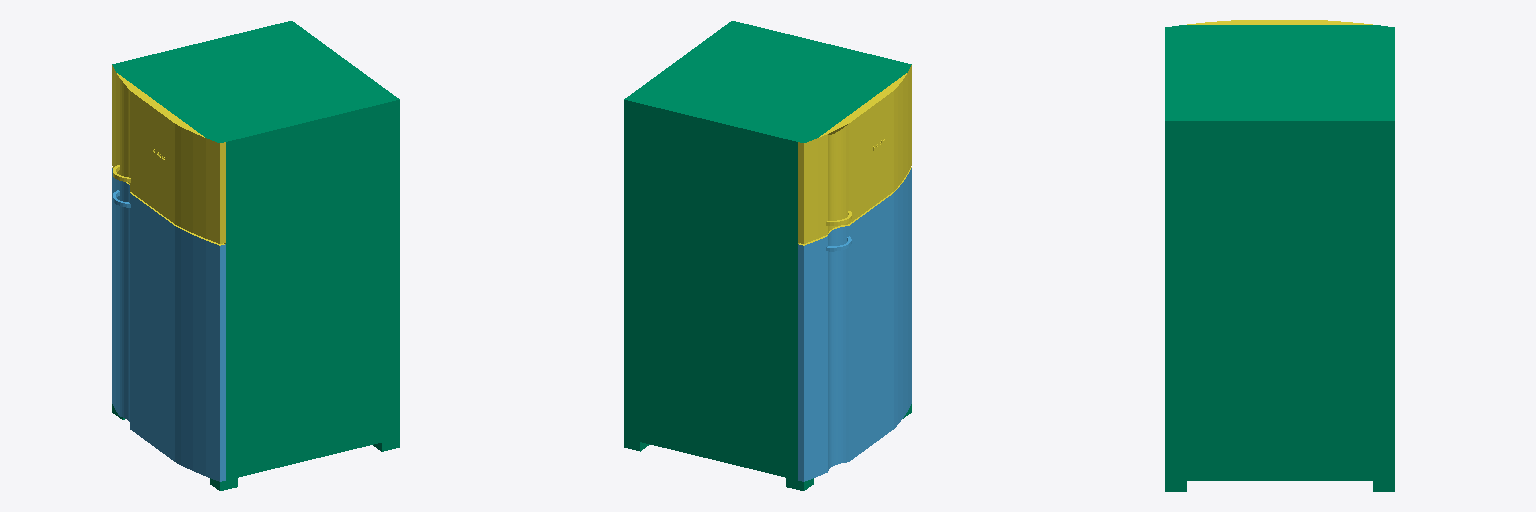
URDF robot description (partnet_76a7e00101f52c70e413b5309d4fbd97):
<?xml version="1.0" ?>
<robot name="partnet_76a7e00101f52c70e413b5309d4fbd97">
	<link name="base"/>
	<link name="link_0">
		<visual name="door_frame-18">
			<origin xyz="-0.3807878965770184 -0.7201900000000003 -0.3004950962124482"/>
			<geometry>
				<mesh filename="textured_objs/new-4.obj"/>
			</geometry>
		</visual>
		<visual name="door_frame-18">
			<origin xyz="-0.3807878965770184 -0.7201900000000003 -0.3004950962124482"/>
			<geometry>
				<mesh filename="textured_objs/original-8.obj"/>
			</geometry>
		</visual>
		<visual name="handle-19">
			<origin xyz="-0.3807878965770184 -0.7201900000000003 -0.3004950962124482"/>
			<geometry>
				<mesh filename="textured_objs/original-1.obj"/>
			</geometry>
		</visual>
		<collision>
			<origin xyz="-0.3807878965770184 -0.7201900000000003 -0.3004950962124482"/>
			<geometry>
				<mesh filename="textured_objs/new-4.obj"/>
			</geometry>
		</collision>
		<collision>
			<origin xyz="-0.3807878965770184 -0.7201900000000003 -0.3004950962124482"/>
			<geometry>
				<mesh filename="textured_objs/original-8.obj"/>
			</geometry>
		</collision>
		<collision>
			<origin xyz="-0.3807878965770184 -0.7201900000000003 -0.3004950962124482"/>
			<geometry>
				<mesh filename="textured_objs/original-1.obj"/>
			</geometry>
		</collision>
	</link>
	<joint name="joint_0" type="revolute">
		<origin xyz="0.3807878965770184 0.7201900000000003 0.3004950962124482"/>
		<axis xyz="0 1 0"/>
		<child link="link_0"/>
		<parent link="link_1"/>
		<limit lower="-0.0" upper="3.141592653589793"/>
	</joint>
	<link name="link_1">
		<visual name="frame-11">
			<origin xyz="0 0 0"/>
			<geometry>
				<mesh filename="textured_objs/new-6.obj"/>
			</geometry>
		</visual>
		<visual name="foot-4">
			<origin xyz="0 0 0"/>
			<geometry>
				<mesh filename="textured_objs/original-16.obj"/>
			</geometry>
		</visual>
		<visual name="foot-4">
			<origin xyz="0 0 0"/>
			<geometry>
				<mesh filename="textured_objs/new-2.obj"/>
			</geometry>
		</visual>
		<visual name="foot-5">
			<origin xyz="0 0 0"/>
			<geometry>
				<mesh filename="textured_objs/new-1.obj"/>
			</geometry>
		</visual>
		<visual name="foot-6">
			<origin xyz="0 0 0"/>
			<geometry>
				<mesh filename="textured_objs/new-0.obj"/>
			</geometry>
		</visual>
		<visual name="foot-7">
			<origin xyz="0 0 0"/>
			<geometry>
				<mesh filename="textured_objs/new-3.obj"/>
			</geometry>
		</visual>
		<visual name="foot-7">
			<origin xyz="0 0 0"/>
			<geometry>
				<mesh filename="textured_objs/original-7.obj"/>
			</geometry>
		</visual>
		<collision>
			<origin xyz="0 0 0"/>
			<geometry>
				<mesh filename="textured_objs/new-6.obj"/>
			</geometry>
		</collision>
		<collision>
			<origin xyz="0 0 0"/>
			<geometry>
				<mesh filename="textured_objs/original-16.obj"/>
			</geometry>
		</collision>
		<collision>
			<origin xyz="0 0 0"/>
			<geometry>
				<mesh filename="textured_objs/new-2.obj"/>
			</geometry>
		</collision>
		<collision>
			<origin xyz="0 0 0"/>
			<geometry>
				<mesh filename="textured_objs/new-1.obj"/>
			</geometry>
		</collision>
		<collision>
			<origin xyz="0 0 0"/>
			<geometry>
				<mesh filename="textured_objs/new-0.obj"/>
			</geometry>
		</collision>
		<collision>
			<origin xyz="0 0 0"/>
			<geometry>
				<mesh filename="textured_objs/new-3.obj"/>
			</geometry>
		</collision>
		<collision>
			<origin xyz="0 0 0"/>
			<geometry>
				<mesh filename="textured_objs/original-7.obj"/>
			</geometry>
		</collision>
	</link>
	<joint name="joint_1" type="fixed">
		<origin rpy="1.570796326794897 0 -1.570796326794897" xyz="0 0 0"/>
		<child link="link_1"/>
		<parent link="base"/>
	</joint>
	<link name="link_2">
		<visual name="other_leaf-15">
			<origin xyz="-0.3807878965770184 -0.7201900000000003 -0.3004950962124482"/>
			<geometry>
				<mesh filename="textured_objs/original-20.obj"/>
			</geometry>
		</visual>
		<visual name="other_leaf-15">
			<origin xyz="-0.3807878965770184 -0.7201900000000003 -0.3004950962124482"/>
			<geometry>
				<mesh filename="textured_objs/original-30.obj"/>
			</geometry>
		</visual>
		<visual name="other_leaf-15">
			<origin xyz="-0.3807878965770184 -0.7201900000000003 -0.3004950962124482"/>
			<geometry>
				<mesh filename="textured_objs/original-31.obj"/>
			</geometry>
		</visual>
		<visual name="other_leaf-15">
			<origin xyz="-0.3807878965770184 -0.7201900000000003 -0.3004950962124482"/>
			<geometry>
				<mesh filename="textured_objs/original-23.obj"/>
			</geometry>
		</visual>
		<visual name="other_leaf-15">
			<origin xyz="-0.3807878965770184 -0.7201900000000003 -0.3004950962124482"/>
			<geometry>
				<mesh filename="textured_objs/original-24.obj"/>
			</geometry>
		</visual>
		<visual name="other_leaf-15">
			<origin xyz="-0.3807878965770184 -0.7201900000000003 -0.3004950962124482"/>
			<geometry>
				<mesh filename="textured_objs/original-25.obj"/>
			</geometry>
		</visual>
		<visual name="other_leaf-15">
			<origin xyz="-0.3807878965770184 -0.7201900000000003 -0.3004950962124482"/>
			<geometry>
				<mesh filename="textured_objs/original-26.obj"/>
			</geometry>
		</visual>
		<visual name="other_leaf-15">
			<origin xyz="-0.3807878965770184 -0.7201900000000003 -0.3004950962124482"/>
			<geometry>
				<mesh filename="textured_objs/original-27.obj"/>
			</geometry>
		</visual>
		<visual name="other_leaf-15">
			<origin xyz="-0.3807878965770184 -0.7201900000000003 -0.3004950962124482"/>
			<geometry>
				<mesh filename="textured_objs/original-28.obj"/>
			</geometry>
		</visual>
		<visual name="other_leaf-15">
			<origin xyz="-0.3807878965770184 -0.7201900000000003 -0.3004950962124482"/>
			<geometry>
				<mesh filename="textured_objs/original-29.obj"/>
			</geometry>
		</visual>
		<visual name="door_frame-16">
			<origin xyz="-0.3807878965770184 -0.7201900000000003 -0.3004950962124482"/>
			<geometry>
				<mesh filename="textured_objs/new-5.obj"/>
			</geometry>
		</visual>
		<visual name="door_frame-16">
			<origin xyz="-0.3807878965770184 -0.7201900000000003 -0.3004950962124482"/>
			<geometry>
				<mesh filename="textured_objs/original-9.obj"/>
			</geometry>
		</visual>
		<visual name="handle-17">
			<origin xyz="-0.3807878965770184 -0.7201900000000003 -0.3004950962124482"/>
			<geometry>
				<mesh filename="textured_objs/original-5.obj"/>
			</geometry>
		</visual>
		<visual name="handle-17">
			<origin xyz="-0.3807878965770184 -0.7201900000000003 -0.3004950962124482"/>
			<geometry>
				<mesh filename="textured_objs/original-4.obj"/>
			</geometry>
		</visual>
		<collision>
			<origin xyz="-0.3807878965770184 -0.7201900000000003 -0.3004950962124482"/>
			<geometry>
				<mesh filename="textured_objs/original-20.obj"/>
			</geometry>
		</collision>
		<collision>
			<origin xyz="-0.3807878965770184 -0.7201900000000003 -0.3004950962124482"/>
			<geometry>
				<mesh filename="textured_objs/original-30.obj"/>
			</geometry>
		</collision>
		<collision>
			<origin xyz="-0.3807878965770184 -0.7201900000000003 -0.3004950962124482"/>
			<geometry>
				<mesh filename="textured_objs/original-31.obj"/>
			</geometry>
		</collision>
		<collision>
			<origin xyz="-0.3807878965770184 -0.7201900000000003 -0.3004950962124482"/>
			<geometry>
				<mesh filename="textured_objs/original-23.obj"/>
			</geometry>
		</collision>
		<collision>
			<origin xyz="-0.3807878965770184 -0.7201900000000003 -0.3004950962124482"/>
			<geometry>
				<mesh filename="textured_objs/original-24.obj"/>
			</geometry>
		</collision>
		<collision>
			<origin xyz="-0.3807878965770184 -0.7201900000000003 -0.3004950962124482"/>
			<geometry>
				<mesh filename="textured_objs/original-25.obj"/>
			</geometry>
		</collision>
		<collision>
			<origin xyz="-0.3807878965770184 -0.7201900000000003 -0.3004950962124482"/>
			<geometry>
				<mesh filename="textured_objs/original-26.obj"/>
			</geometry>
		</collision>
		<collision>
			<origin xyz="-0.3807878965770184 -0.7201900000000003 -0.3004950962124482"/>
			<geometry>
				<mesh filename="textured_objs/original-27.obj"/>
			</geometry>
		</collision>
		<collision>
			<origin xyz="-0.3807878965770184 -0.7201900000000003 -0.3004950962124482"/>
			<geometry>
				<mesh filename="textured_objs/original-28.obj"/>
			</geometry>
		</collision>
		<collision>
			<origin xyz="-0.3807878965770184 -0.7201900000000003 -0.3004950962124482"/>
			<geometry>
				<mesh filename="textured_objs/original-29.obj"/>
			</geometry>
		</collision>
		<collision>
			<origin xyz="-0.3807878965770184 -0.7201900000000003 -0.3004950962124482"/>
			<geometry>
				<mesh filename="textured_objs/new-5.obj"/>
			</geometry>
		</collision>
		<collision>
			<origin xyz="-0.3807878965770184 -0.7201900000000003 -0.3004950962124482"/>
			<geometry>
				<mesh filename="textured_objs/original-9.obj"/>
			</geometry>
		</collision>
		<collision>
			<origin xyz="-0.3807878965770184 -0.7201900000000003 -0.3004950962124482"/>
			<geometry>
				<mesh filename="textured_objs/original-5.obj"/>
			</geometry>
		</collision>
		<collision>
			<origin xyz="-0.3807878965770184 -0.7201900000000003 -0.3004950962124482"/>
			<geometry>
				<mesh filename="textured_objs/original-4.obj"/>
			</geometry>
		</collision>
	</link>
	<joint name="joint_2" type="revolute">
		<origin xyz="0.3807878965770184 0.7201900000000003 0.3004950962124482"/>
		<axis xyz="0 1 0"/>
		<child link="link_2"/>
		<parent link="link_1"/>
		<limit lower="-0.0" upper="3.141592653589793"/>
	</joint>
</robot>

--- What the picture shows (computed from the rendered views, not written in the file) ---
Views: 3 orthographic renders of the robot side by side, from view 1: azimuth 30°, elevation 25°; view 2: azimuth 150°, elevation 25°; view 3: azimuth 270°, elevation 25°.
Robot: partnet_76a7e00101f52c70e413b5309d4fbd97 — 4 links, 3 joints (2 revolute, 1 fixed); root link base; default pose: all joints at 0.
Links seen in each view (by area): view 1: link_1, link_0, link_2; view 2: link_1, link_0, link_2; view 3: link_1, link_2.
Link boxes in pixels (x1,y1,x2,y2): link_1: [112, 21, 399, 490]; link_0: [112, 168, 225, 481]; link_2: [112, 65, 225, 245]; link_1: [624, 21, 911, 490]; link_0: [798, 168, 911, 481]; link_2: [798, 65, 911, 245]; link_1: [1165, 25, 1394, 491]; link_2: [1187, 20, 1372, 24].
Bounding box of the posed robot: 0.9222 × 0.8589 × 1.53 m (x, y, z).
24 mesh visuals loaded from 24 distinct referenced files (24 OBJ).
